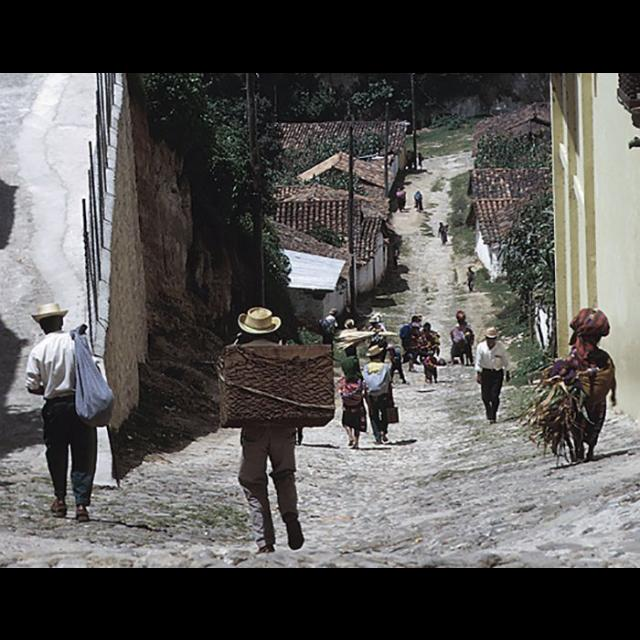head: (245, 315, 273, 341), (38, 306, 66, 330), (586, 326, 604, 344), (368, 347, 384, 361), (485, 331, 497, 347), (346, 370, 360, 382), (346, 319, 356, 329), (370, 318, 380, 328), (460, 323, 466, 331), (428, 352, 436, 358), (332, 310, 338, 316), (440, 222, 444, 226), (419, 152, 423, 156), (418, 190, 420, 193)
person: (214, 304, 336, 556), (24, 300, 118, 526), (544, 306, 618, 467), (473, 324, 513, 426), (362, 341, 398, 445), (336, 356, 369, 450), (364, 311, 391, 375), (448, 319, 472, 367), (343, 317, 359, 367), (322, 307, 340, 347), (424, 348, 440, 388), (437, 220, 451, 248), (414, 188, 426, 216), (417, 151, 425, 169)
